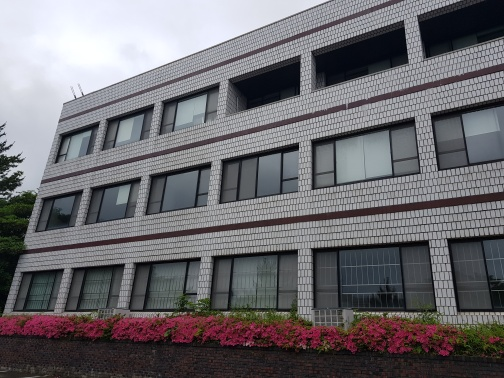Foreign Language Institute: (33, 26, 504, 354), (82, 115, 427, 219)
